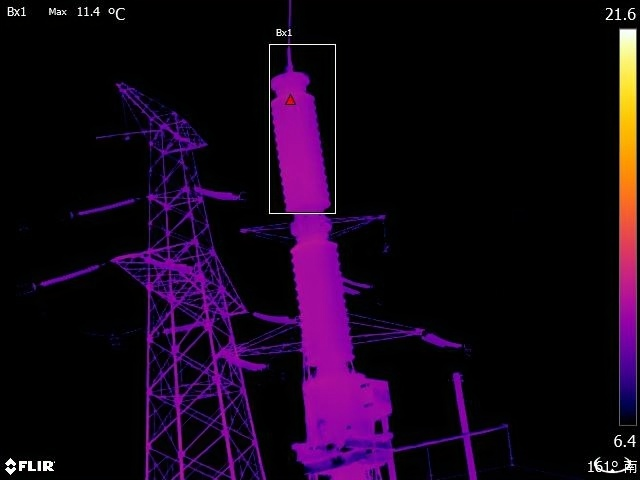insulator: (36, 262, 103, 291), (72, 192, 134, 220), (194, 184, 244, 202), (250, 309, 295, 326)
potential transformer: (257, 64, 394, 453)
